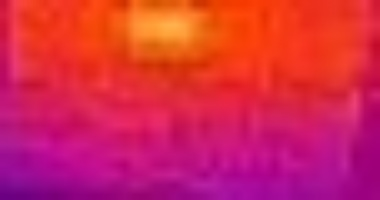Hotspot: (126, 1, 206, 63)
